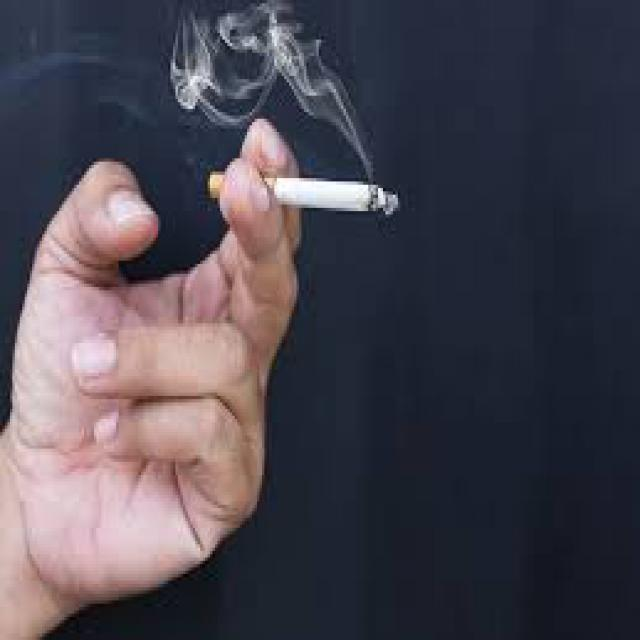Smoke: (154, 6, 390, 162)
